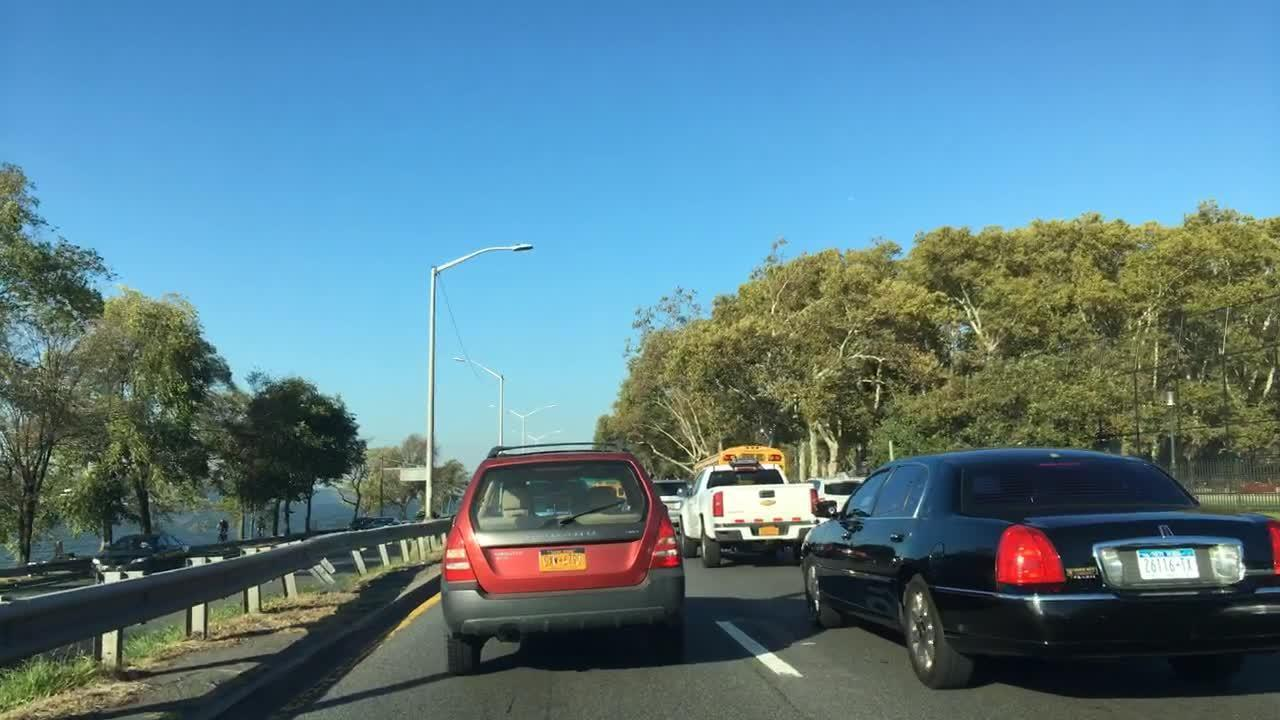chevrolet: (758, 498, 782, 508)
lincoln: (1152, 519, 1182, 548)
